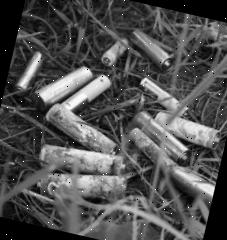electronic: (24, 46, 124, 140)
